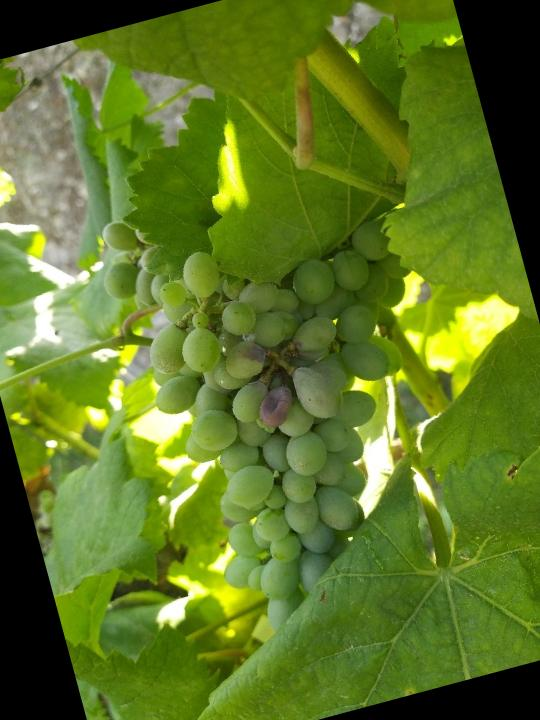grape: (88, 145, 493, 660)
